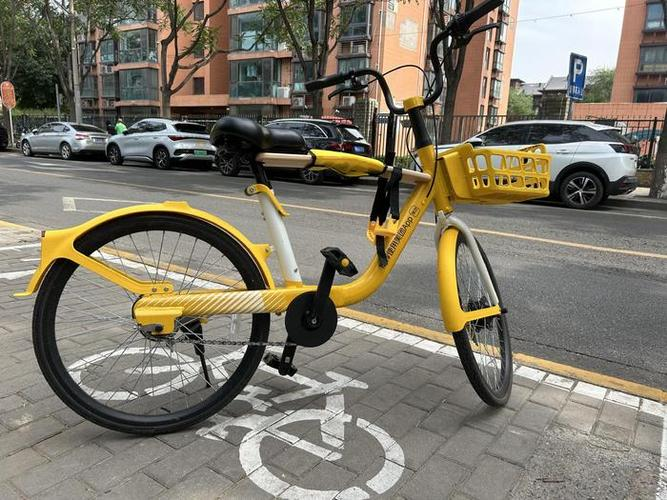单车: (25, 4, 574, 429)
